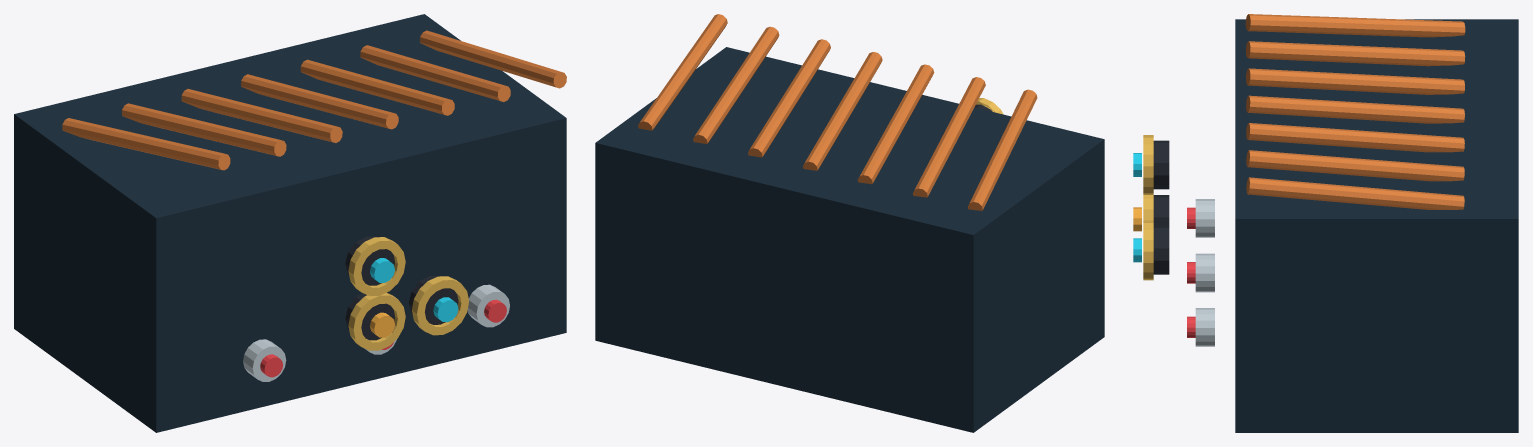
File: 64_L82_SeamGapFaultActuator.fbx
3 views of the same model, side by side, from view 1: azimuth 30°, elevation 25°; view 2: azimuth 150°, elevation 25°; view 3: azimuth 270°, elevation 25° (orthographic). The views are drawn at different scales.
Parts seen in each view (by area): view 1: SeamGapFaultActuator; view 2: SeamGapFaultActuator; view 3: SeamGapFaultActuator.
Boxes of the visible parts, <box> form: SeamGapFaultActuator: <box>14,14,566,432</box>; SeamGapFaultActuator: <box>595,14,1104,432</box>; SeamGapFaultActuator: <box>1133,14,1518,432</box>.
Bounding box in the file's own units: 112 × 65.44 × 89.75.
